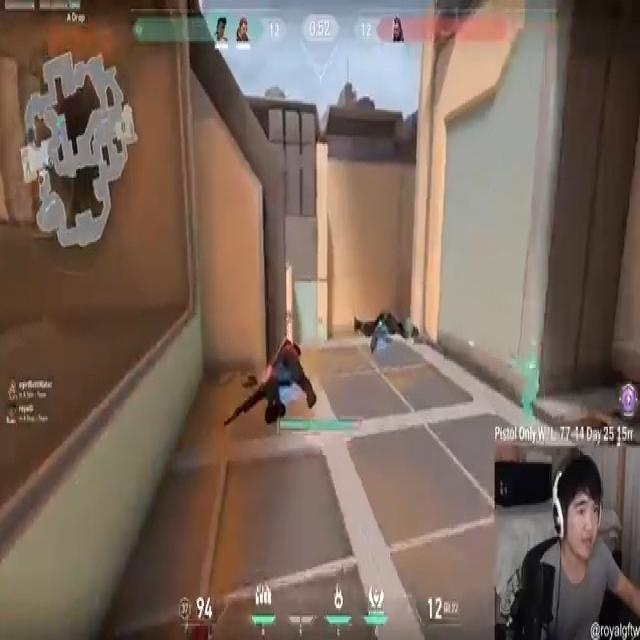ally behind wall: (517, 344, 542, 424)
